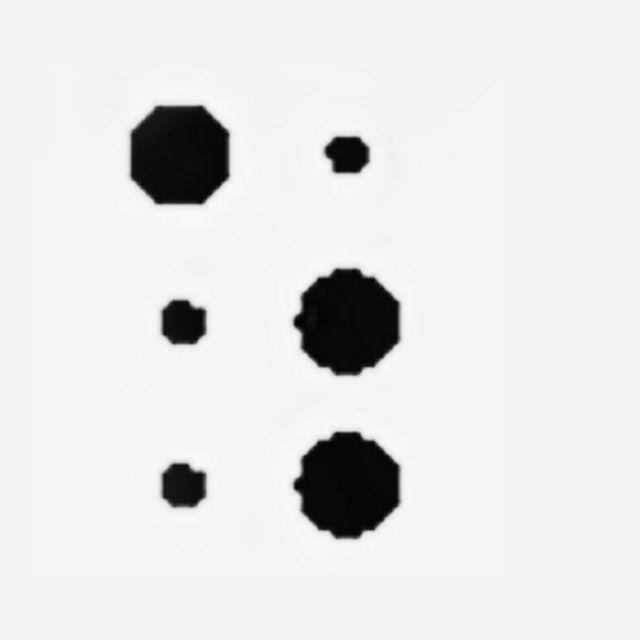anak: (130, 105, 400, 538)
